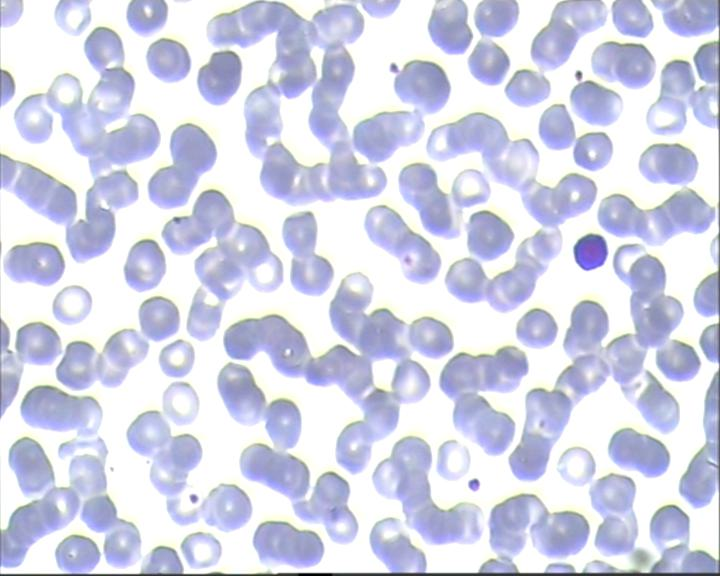lymp: (574, 231, 609, 274)
